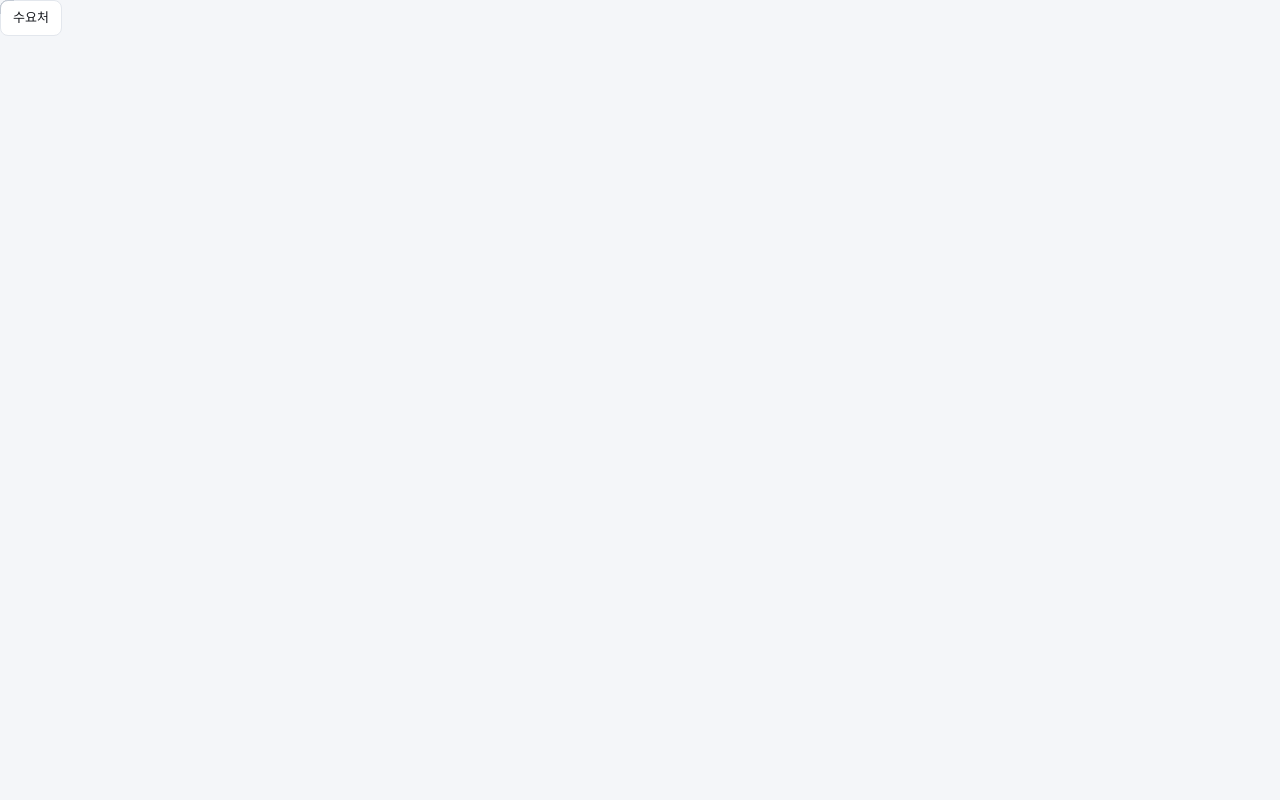
Test: PresetPicker › 데이터센터 선택 → 타일 등급·미보유 경고, 해제하면 원래대로
Later steps or results of the test are not shown.
Click the button with test id "preset-trigger": (31, 18) [0, 0, 62, 36]
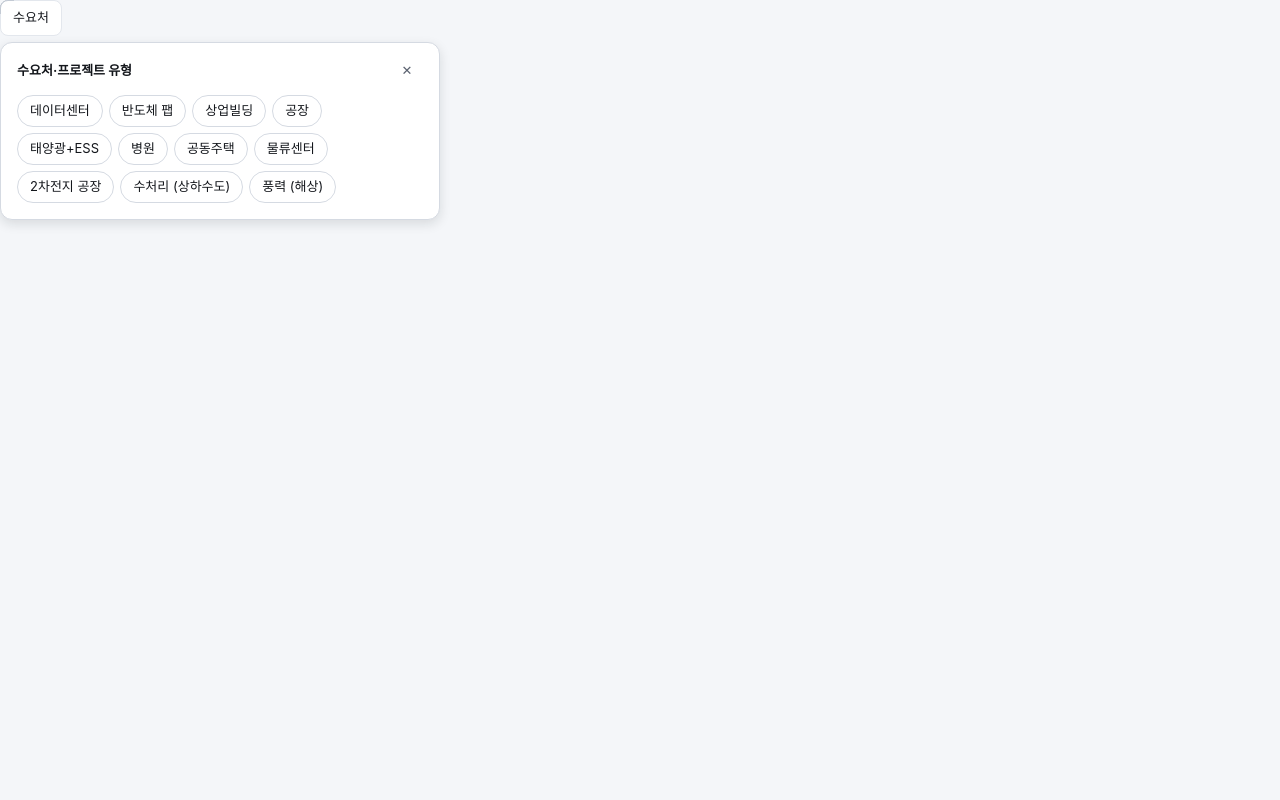
Click the button with test id "preset-datacenter": (60, 111) [17, 95, 103, 127]
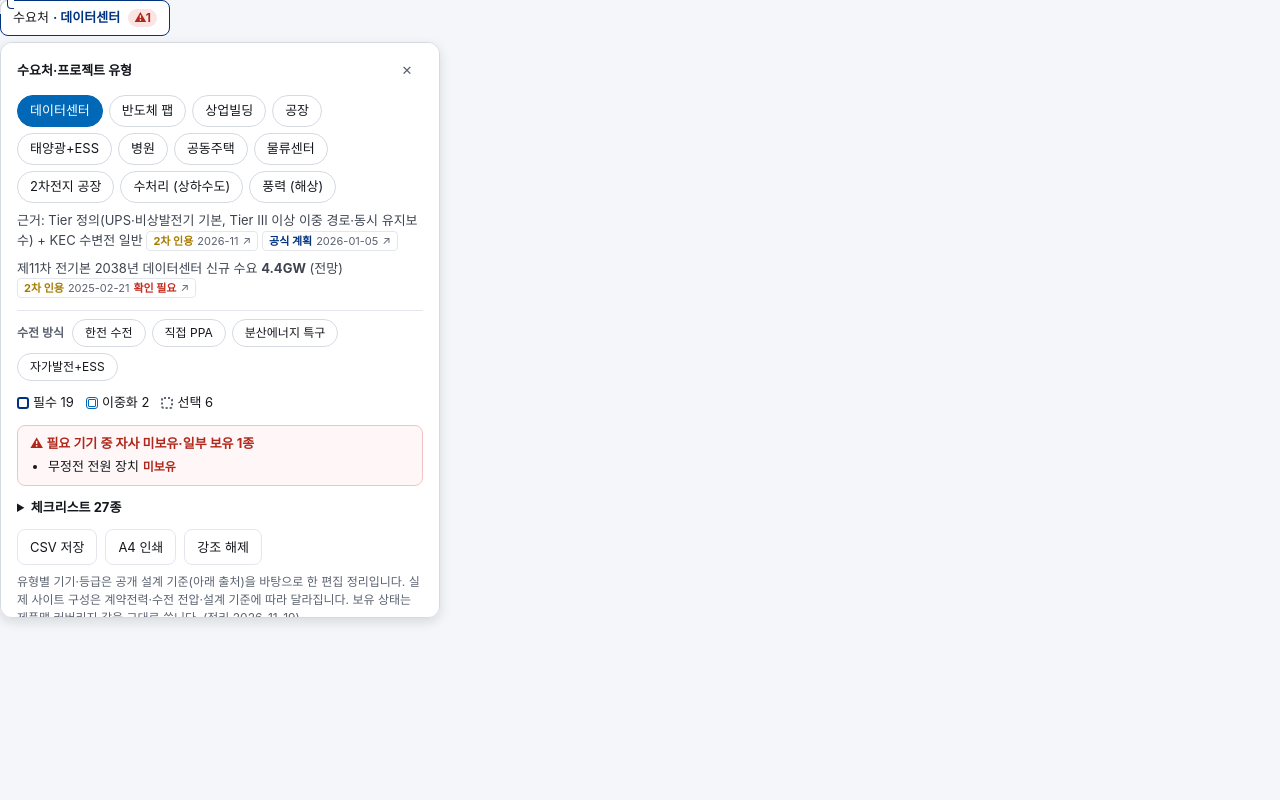
Result: the element with test id "preset-warns" shows "무정전 전원 장치" at [48, 458, 139, 474]
